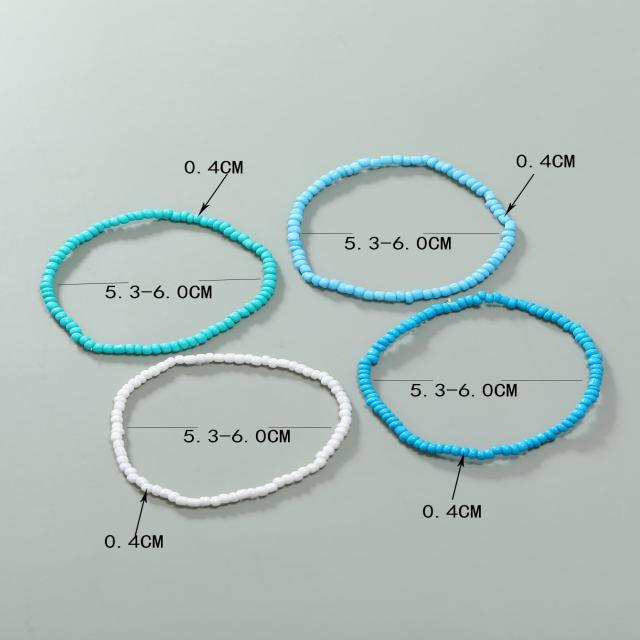bracelet: (28, 130, 308, 356), (83, 336, 373, 548), (342, 293, 640, 492), (274, 130, 558, 296)
